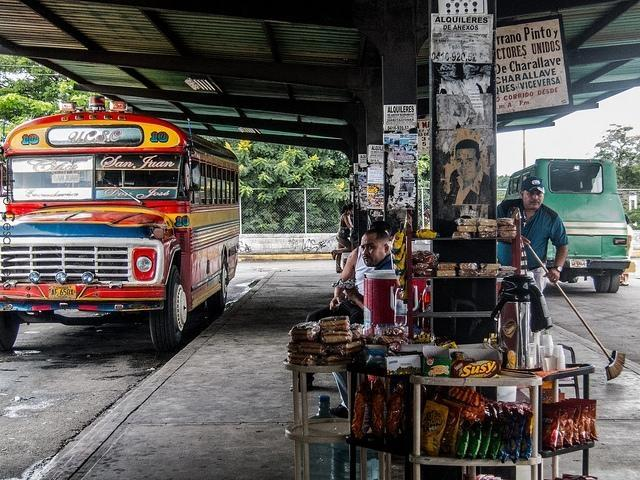bus: (1, 105, 243, 354), (498, 158, 630, 294)
truck: (510, 158, 634, 293)
